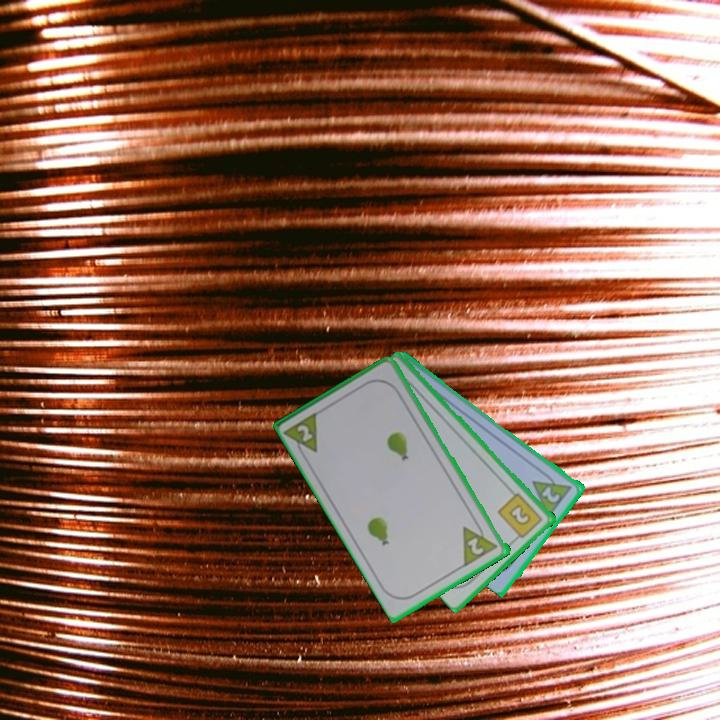2b: (494, 489, 546, 544)
2p: (529, 467, 576, 519), (464, 534, 487, 558), (294, 421, 316, 445)
